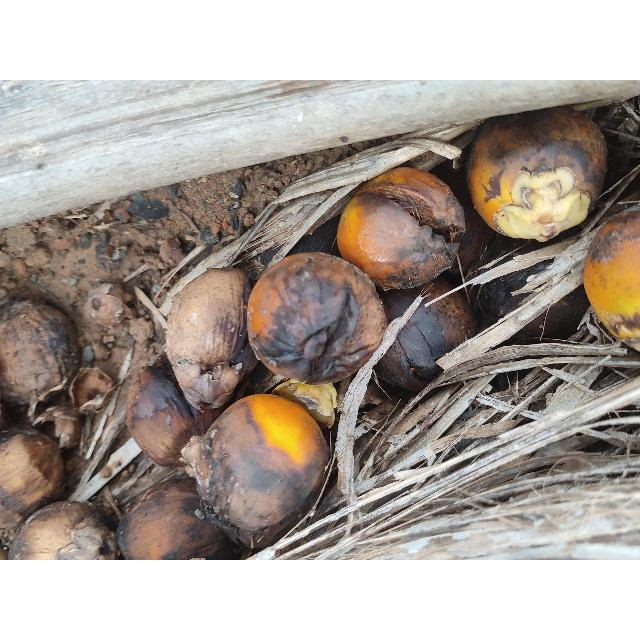damaged: (184, 394, 326, 548), (466, 106, 610, 240), (248, 256, 368, 384), (345, 170, 459, 288), (126, 360, 238, 466), (164, 268, 256, 396), (474, 249, 594, 347), (374, 277, 468, 385), (118, 476, 236, 558), (1, 300, 81, 408), (583, 208, 639, 344), (75, 282, 155, 376), (0, 424, 68, 528), (8, 501, 122, 559), (110, 234, 177, 284), (87, 496, 121, 532), (99, 282, 138, 312), (544, 453, 594, 475), (1, 496, 23, 544), (1, 376, 29, 412), (200, 225, 220, 245)
